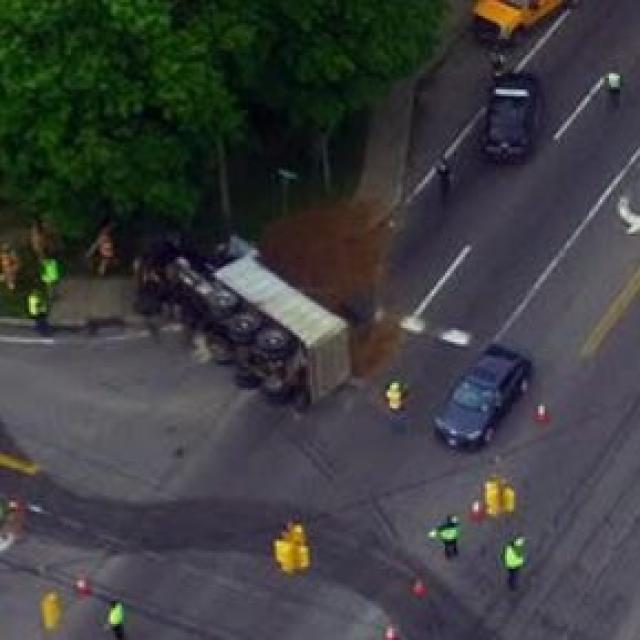traffic_incident: (137, 220, 370, 397)
